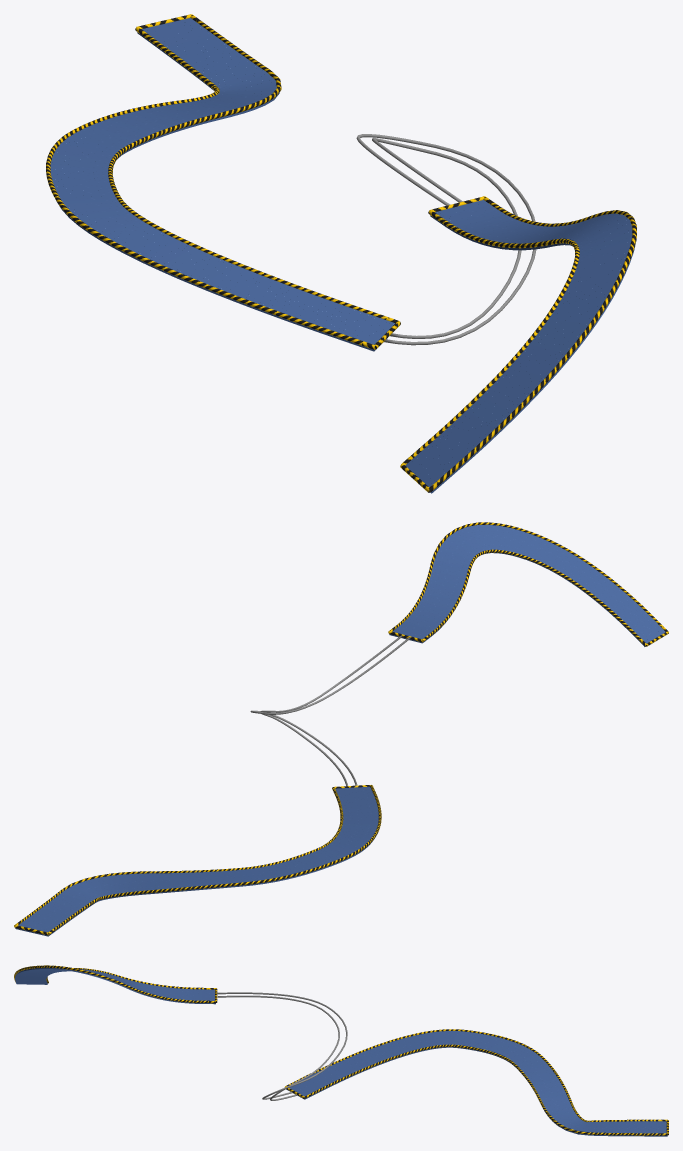
File: GregBallLevel3.fbx
3 views of the same model, one above another, from view 1: azimuth 30°, elevation 25°; view 2: azimuth 150°, elevation 25°; view 3: azimuth 270°, elevation 25° (orthographic). The views are drawn at different scales.
Parts seen in each view (by area): view 1: Cube, Cube.004, Cube.003; view 2: Cube.004, Cube, Cube.003; view 3: Cube, Cube.004, Cube.003.
Part boxes in pixels (left/top/right/bottom): Cube: left=46, top=14, right=400, bottom=351; Cube.004: left=400, top=196, right=636, bottom=493; Cube.003: left=356, top=134, right=536, bottom=345; Cube.004: left=388, top=522, right=668, bottom=646; Cube: left=14, top=785, right=381, bottom=936; Cube.003: left=250, top=635, right=410, bottom=785; Cube: left=284, top=1029, right=668, bottom=1136; Cube.004: left=14, top=965, right=217, bottom=1004; Cube.003: left=217, top=992, right=347, bottom=1100.
Bounding box in the file's own units: 6169 × 3762 × 16778.
